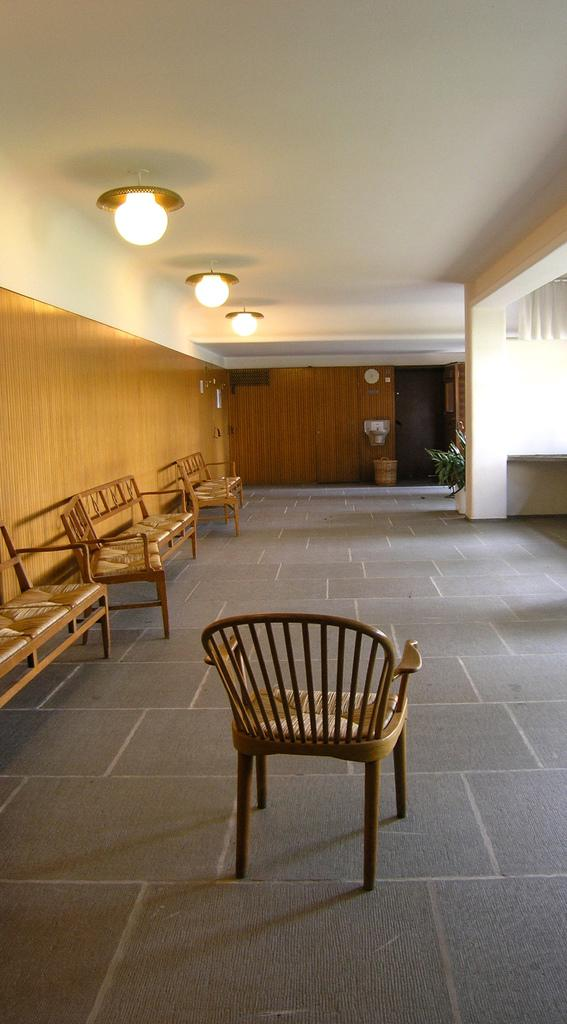Chair: (188, 594, 432, 914), (162, 452, 253, 536)
